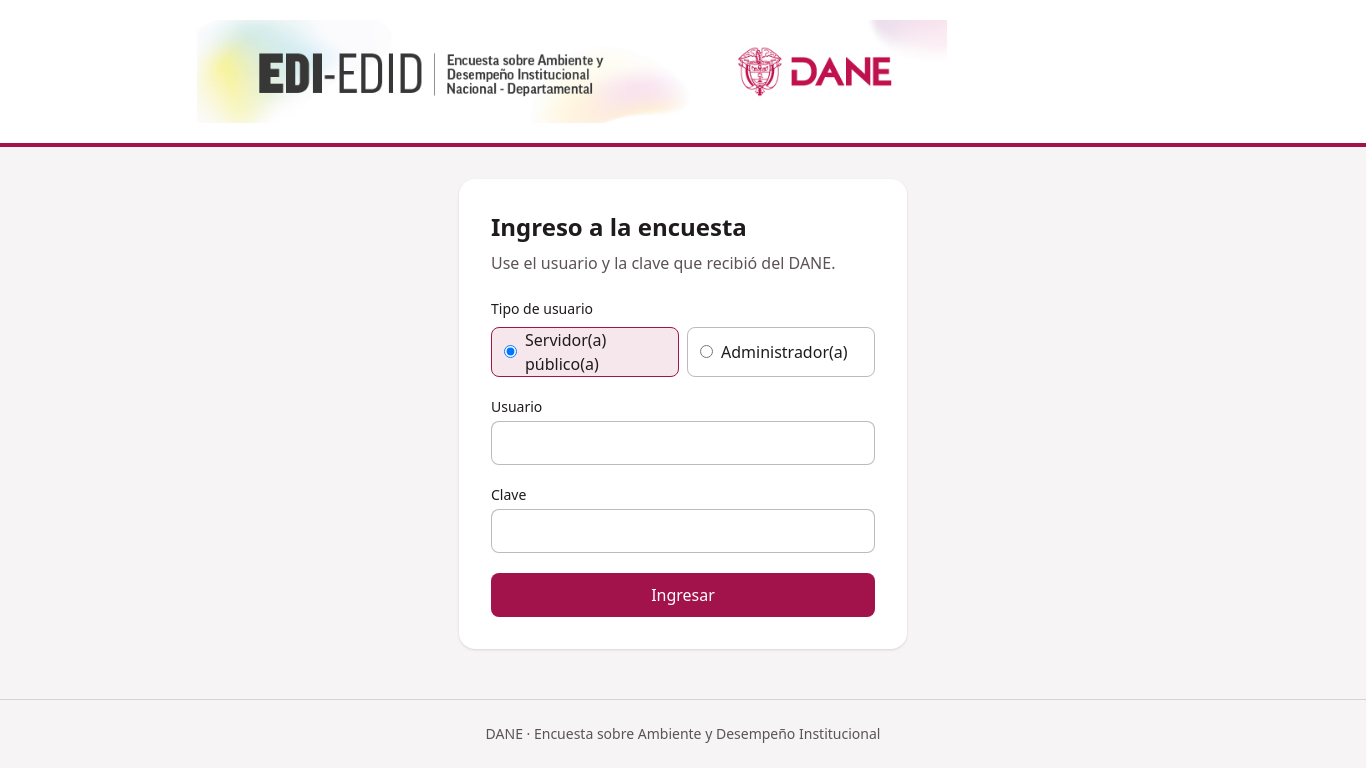
Scenario: LoginPage › lleva al encuestado a la encuesta después de ingresar
Type "PRUEBA01" into the field labelled "Usuario". click: [683, 443]
box: [491,421,875,465]
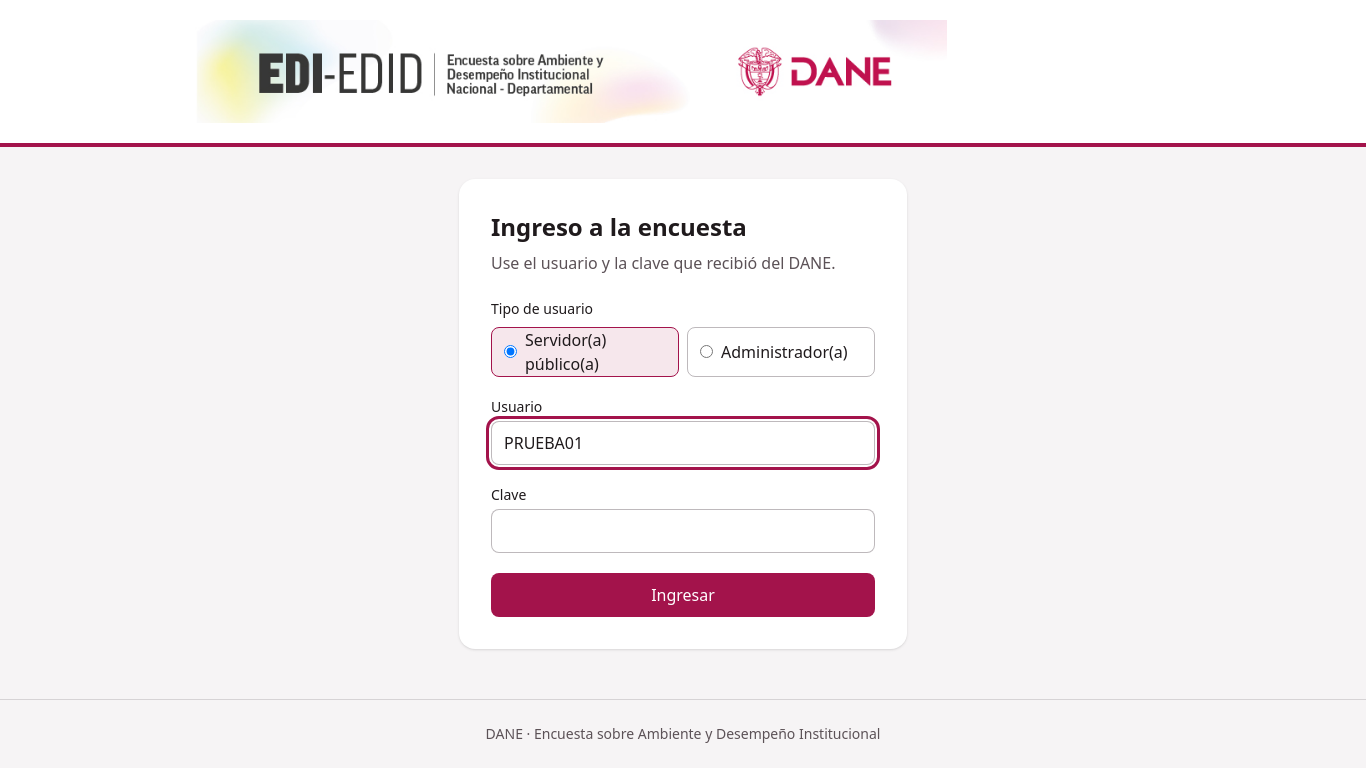
Type "Clave#01" into the password field labelled "Clave". click: [683, 531]
box: [491,509,875,553]
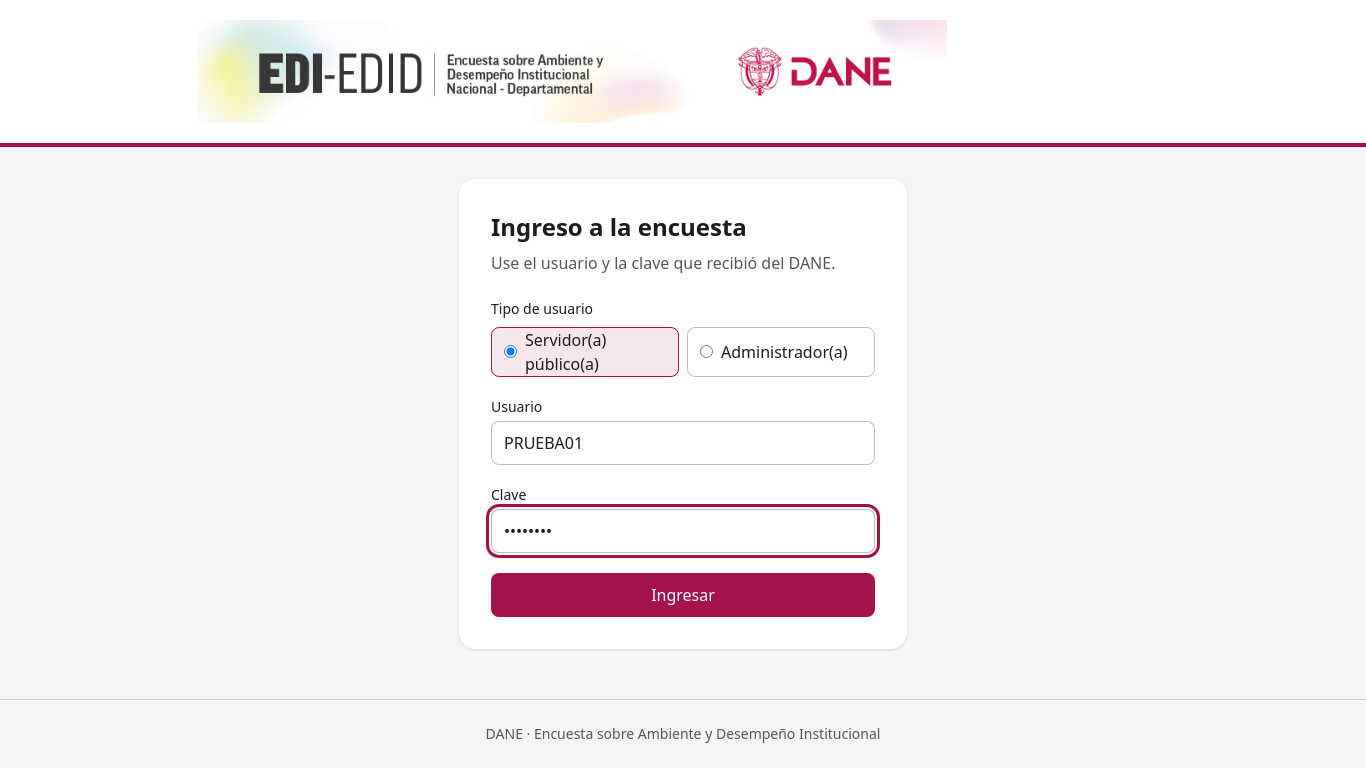
Click the button "Ingresar". click: [683, 595]
box: [491,573,875,617]
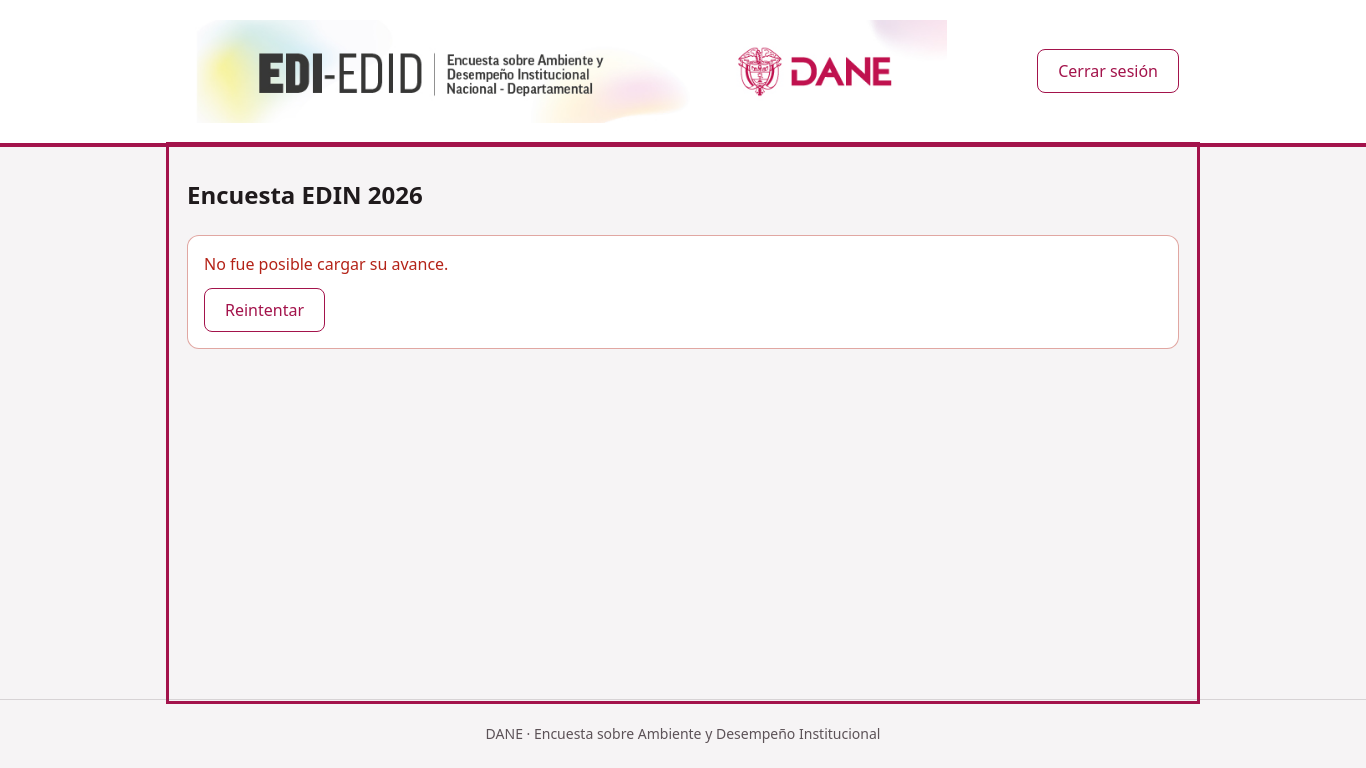
Expected: the heading "Encuesta EDIN 2026" is shown, [187,178,423,211]
